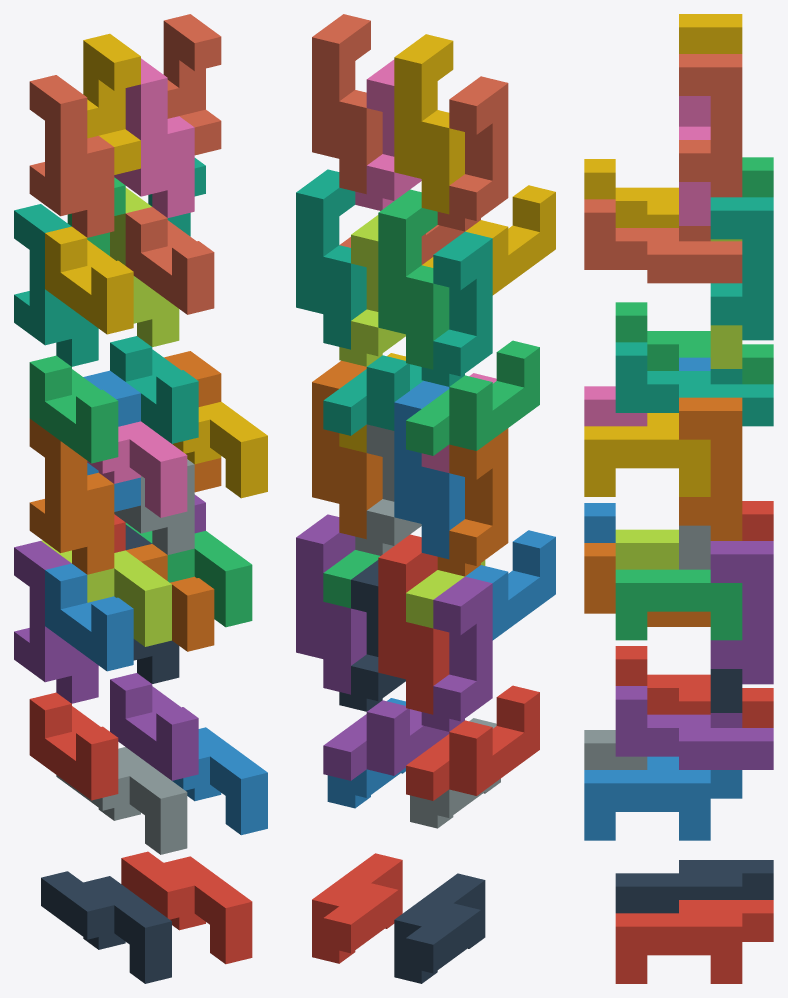
Rendered from tiling.obj.
The picture shows the model from 3 angles, left to right: view 1: azimuth 30°, elevation 25°; view 2: azimuth 150°, elevation 25°; view 3: azimuth 270°, elevation 25°; orthographic projection. The views are drawn at different scales.
Visible parts, largest first — view 1: copy_3_domain_4, copy_3_domain_2, copy_2_domain_1, copy_2_domain_5, copy_3_domain_8, copy_1_domain_3, copy_1_domain_1, copy_1_domain_8, copy_1_domain_4, copy_1_domain_5, copy_3_domain_1, copy_3_domain_3 (+18 smaller); view 2: copy_4_domain_4, copy_4_domain_8, copy_4_domain_3, copy_4_domain_7, copy_1_domain_1, copy_1_domain_3, copy_4_domain_1, copy_4_domain_5, copy_3_domain_4, copy_3_domain_1, copy_3_domain_3, copy_2_domain_1 (+19 smaller); view 3: copy_2_domain_5, copy_1_domain_8, copy_1_domain_5, copy_2_domain_6, copy_4_domain_7, copy_4_domain_8, copy_2_domain_8, copy_4_domain_6, copy_2_domain_7, copy_4_domain_5, copy_1_domain_7, copy_2_domain_1 (+16 smaller).
Boxes of the visible parts, x1=… form: copy_3_domain_4: x1=29, y1=75, x2=114, y2=237; copy_3_domain_2: x1=29, y1=418, x2=114, y2=574; copy_2_domain_1: x1=41, y1=871, x2=171, y2=983; copy_2_domain_5: x1=121, y1=851, x2=252, y2=964; copy_3_domain_8: x1=114, y1=58, x2=194, y2=217; copy_1_domain_3: x1=29, y1=355, x2=118, y2=463; copy_1_domain_1: x1=29, y1=692, x2=118, y2=800; copy_1_domain_8: x1=125, y1=207, x2=214, y2=314; copy_1_domain_4: x1=45, y1=226, x2=133, y2=334; copy_1_domain_5: x1=110, y1=673, x2=198, y2=780; copy_3_domain_1: x1=14, y1=541, x2=98, y2=703; copy_3_domain_3: x1=14, y1=204, x2=98, y2=366; copy_4_domain_4: x1=394, y1=34, x2=464, y2=214; copy_4_domain_8: x1=312, y1=14, x2=382, y2=194; copy_4_domain_3: x1=378, y1=189, x2=449, y2=369; copy_4_domain_7: x1=296, y1=169, x2=366, y2=349; copy_1_domain_1: x1=406, y1=685, x2=539, y2=800; copy_1_domain_3: x1=406, y1=340, x2=539, y2=455; copy_4_domain_1: x1=378, y1=534, x2=449, y2=714; copy_4_domain_5: x1=296, y1=514, x2=366, y2=694; copy_3_domain_4: x1=437, y1=76, x2=508, y2=231; copy_3_domain_1: x1=421, y1=576, x2=492, y2=731; copy_3_domain_3: x1=421, y1=231, x2=492, y2=386; copy_2_domain_1: x1=394, y1=873, x2=485, y2=983; copy_2_domain_5: x1=615, y1=900, x2=773, y2=983; copy_1_domain_8: x1=584, y1=199, x2=742, y2=283; copy_1_domain_5: x1=615, y1=686, x2=773, y2=769; copy_2_domain_6: x1=584, y1=756, x2=742, y2=840; copy_4_domain_7: x1=710, y1=197, x2=773, y2=340; copy_4_domain_8: x1=679, y1=54, x2=742, y2=197; copy_2_domain_8: x1=584, y1=413, x2=710, y2=496; copy_4_domain_6: x1=679, y1=397, x2=742, y2=540; copy_2_domain_7: x1=615, y1=569, x2=742, y2=640; copy_4_domain_5: x1=710, y1=541, x2=773, y2=684; copy_1_domain_7: x1=615, y1=342, x2=773, y2=426; copy_2_domain_1: x1=615, y1=860, x2=773, y2=913.
Bounding box in the file's own units: 6 × 32 × 6.
